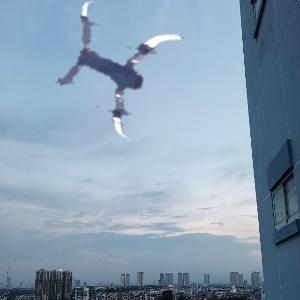drone: (56, 7, 191, 142)
